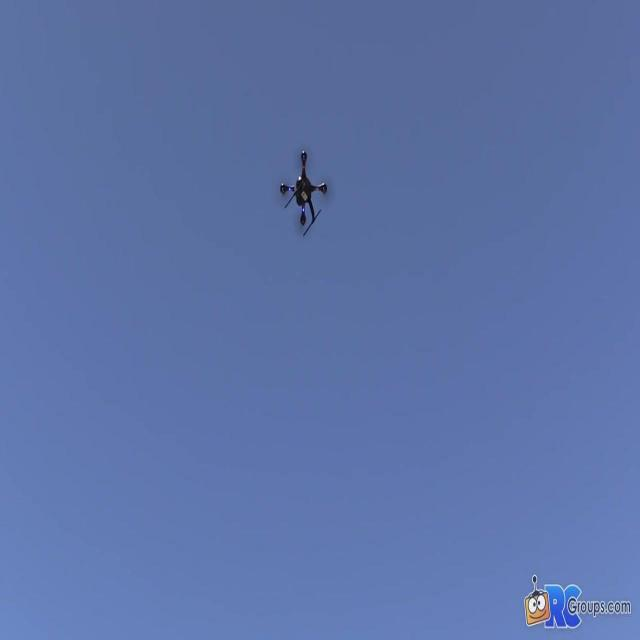UAV: (274, 143, 334, 237)
